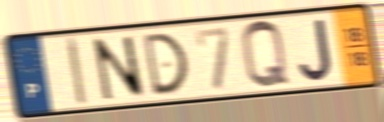7: (192, 24, 232, 93)
D: (140, 30, 190, 99)
I: (64, 35, 90, 109)
J: (297, 17, 335, 83)
N: (90, 34, 149, 103)
Q: (238, 18, 293, 92)
